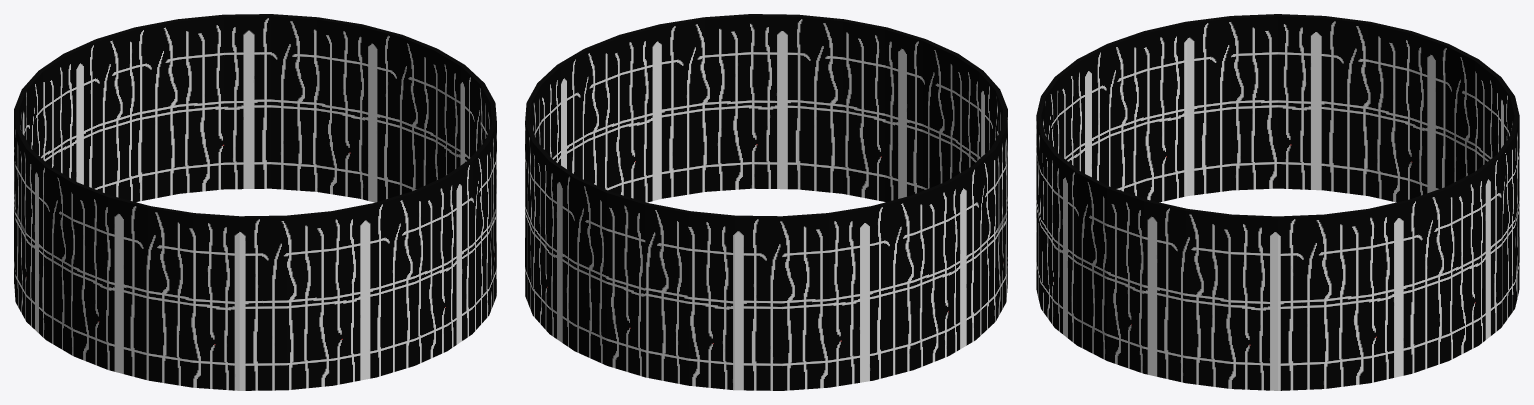
Rendered from warden_cage.obj.
The picture shows the model from 3 angles, left to right: view 1: azimuth 30°, elevation 25°; view 2: azimuth 150°, elevation 25°; view 3: azimuth 270°, elevation 25°; orthographic projection.
Parts seen in each view (by area): view 1: Cube; view 2: Cube; view 3: Cube.
Boxes of the visible parts, bbox=[...] form: Cube: bbox=[14, 14, 496, 390]; Cube: bbox=[525, 14, 1007, 390]; Cube: bbox=[1036, 14, 1519, 390].
Size of the model in its own units: 5.73 by 2.26 by 5.73.
